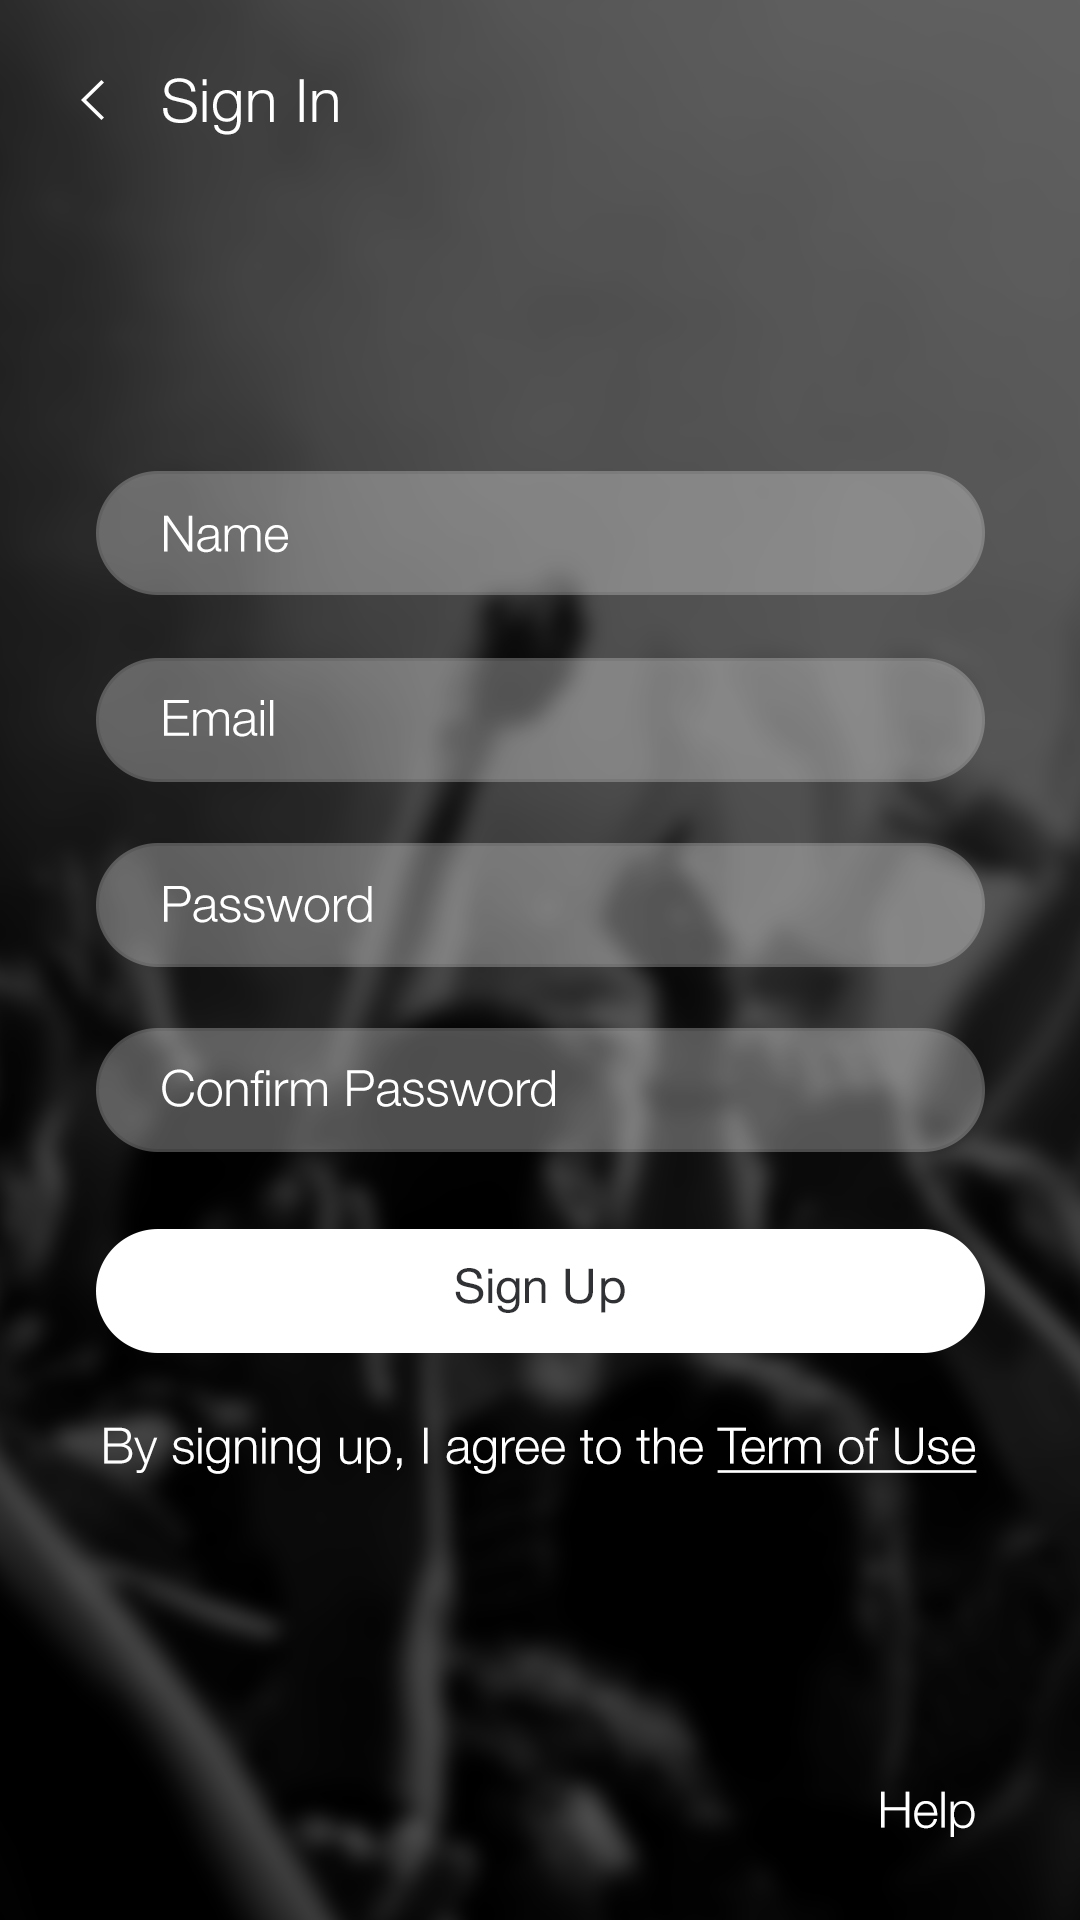BackgroundImage: (1, 1, 1080, 1920)
EditText: (96, 471, 986, 597), (96, 658, 986, 783), (96, 843, 986, 968), (96, 1029, 986, 1153)
Icon: (80, 80, 105, 123)
Text: (104, 1425, 977, 1476), (162, 1069, 556, 1109), (164, 78, 340, 137), (164, 885, 375, 924), (164, 516, 290, 555), (880, 1789, 976, 1838), (164, 699, 276, 738)
TextButton: (96, 1229, 986, 1354)
